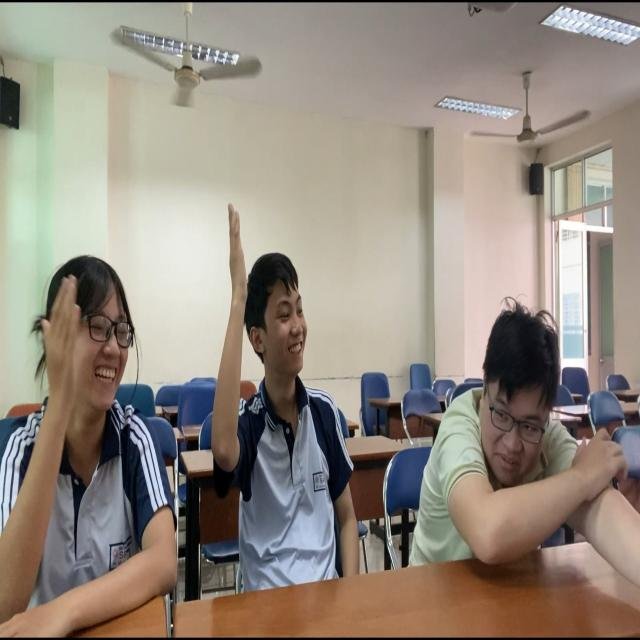raise_hand: (1, 211, 184, 640), (208, 199, 325, 537)
